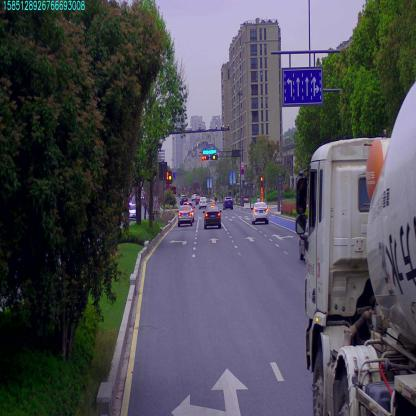traffic-light: (203, 148, 217, 154), (201, 154, 208, 159), (210, 155, 218, 159)
